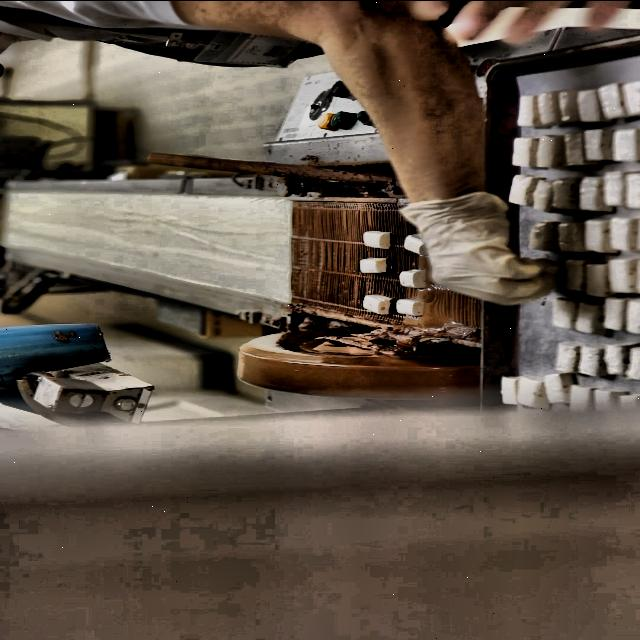gloved: (374, 168, 562, 320)
